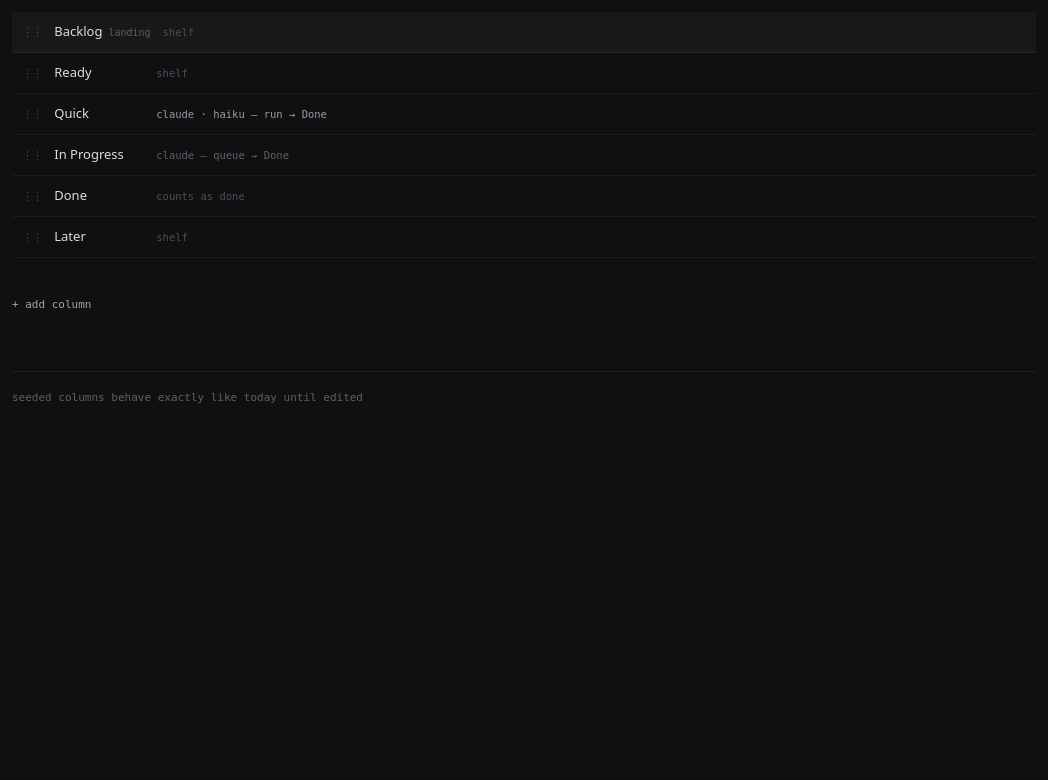
delete › occupied wins over the advance-target reason (spec priority)
Expected: the text "Backlog" is shown, 54,22 -> 102,40
Click the button with class "fc-col-row" showing "⋮⋮ Done counts as done". click: (71, 195)
box: 14,176 -> 1036,216
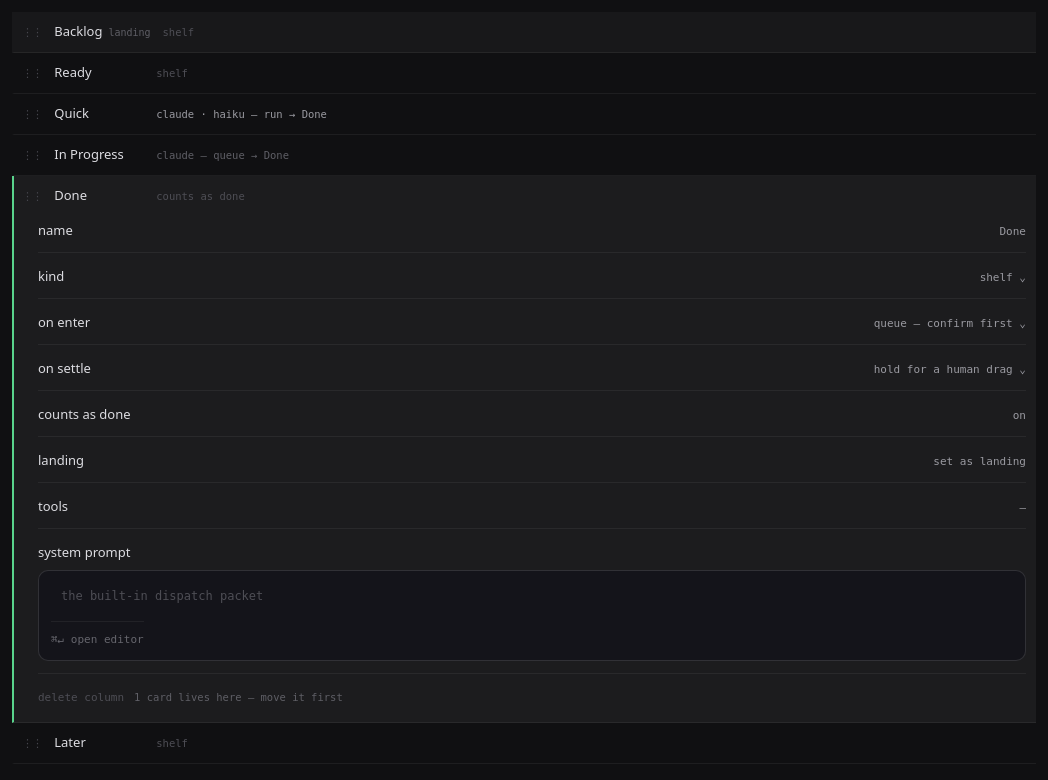
Now the text with class "fc-col-delete-reason" reads "1 card lives here — move it first", box 134,691 -> 343,703
